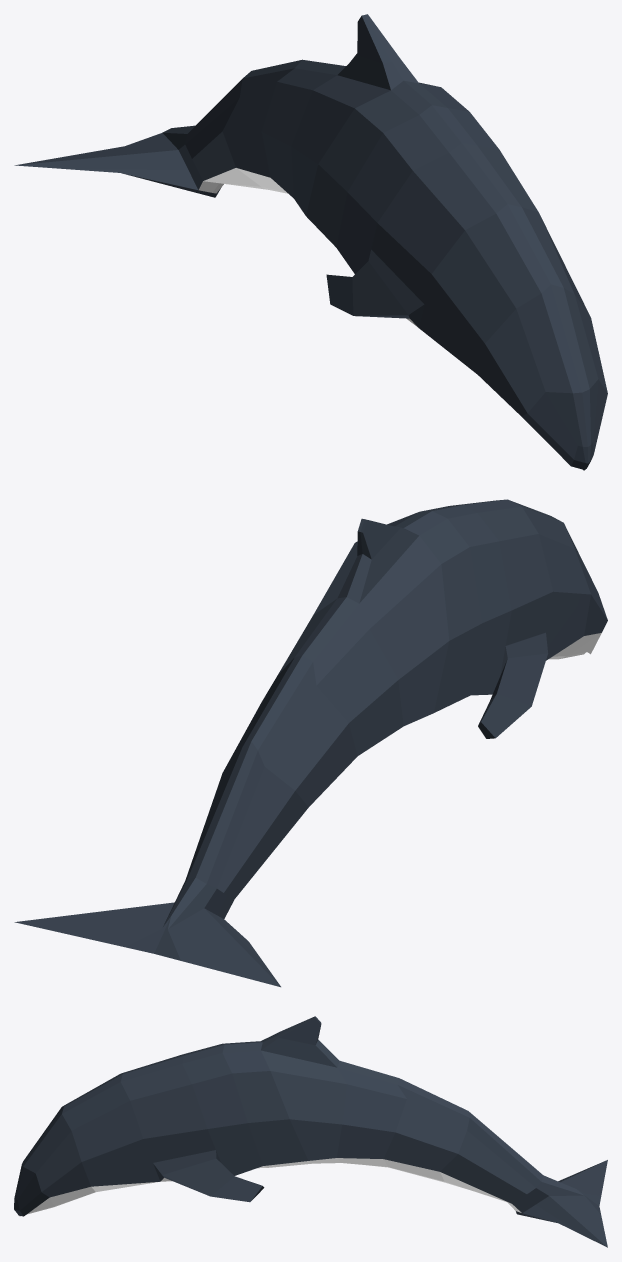
Rendered from dolphin.fbx.
3 renders of one model, top to bottom at view 1: azimuth 30°, elevation 25°; view 2: azimuth 150°, elevation 25°; view 3: azimuth 270°, elevation 25°, orthographic. The views are drawn at different scales.
Visible parts, largest first — view 1: Dolphin; view 2: Dolphin; view 3: Dolphin.
Boxes of the visible parts, x1,y1,x2,y2 form: Dolphin: [14, 14, 607, 470]; Dolphin: [14, 499, 607, 987]; Dolphin: [14, 1016, 607, 1247].
Size of the model in its own units: 0.3276 by 0.3457 by 0.9334.
